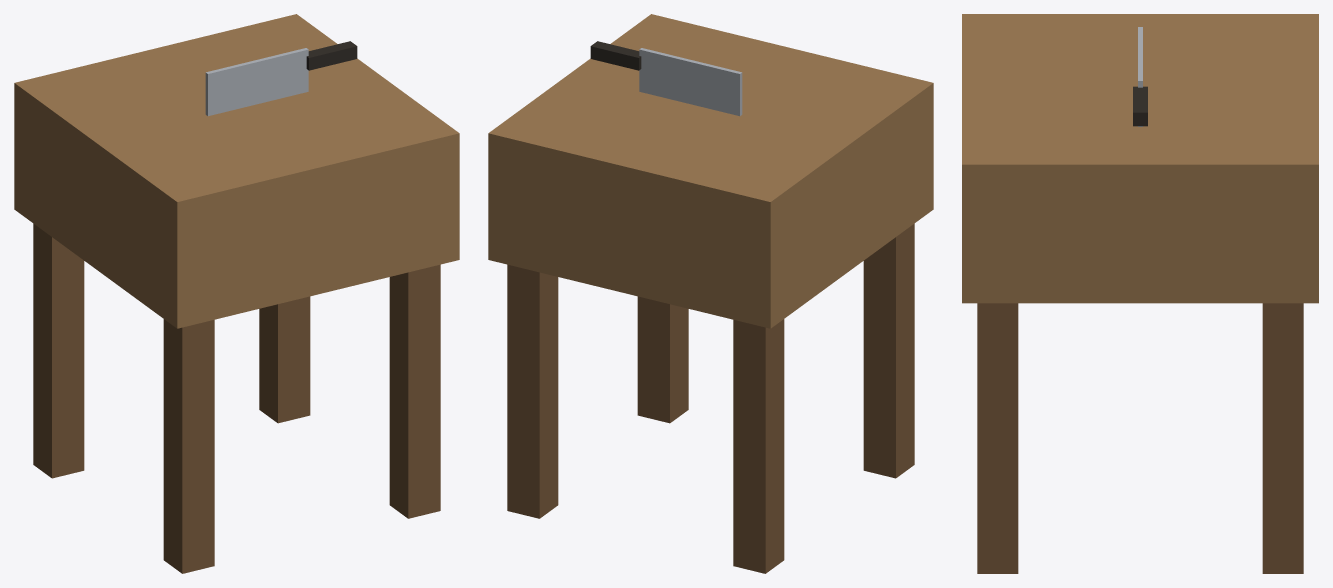
The model's file is butcher block.glb.
3 renders of one model, left to right at view 1: azimuth 30°, elevation 25°; view 2: azimuth 150°, elevation 25°; view 3: azimuth 270°, elevation 25°, orthographic. The views are drawn at different scales.
Visible parts, largest first — view 1: butcher block; view 2: butcher block; view 3: butcher block.
Part boxes in pixels (<box>): butcher block: <box>14,14,459,573</box>; butcher block: <box>488,14,933,573</box>; butcher block: <box>962,14,1318,573</box>.
Bounding box in the file's own units: 0.7 × 1 × 0.7.
